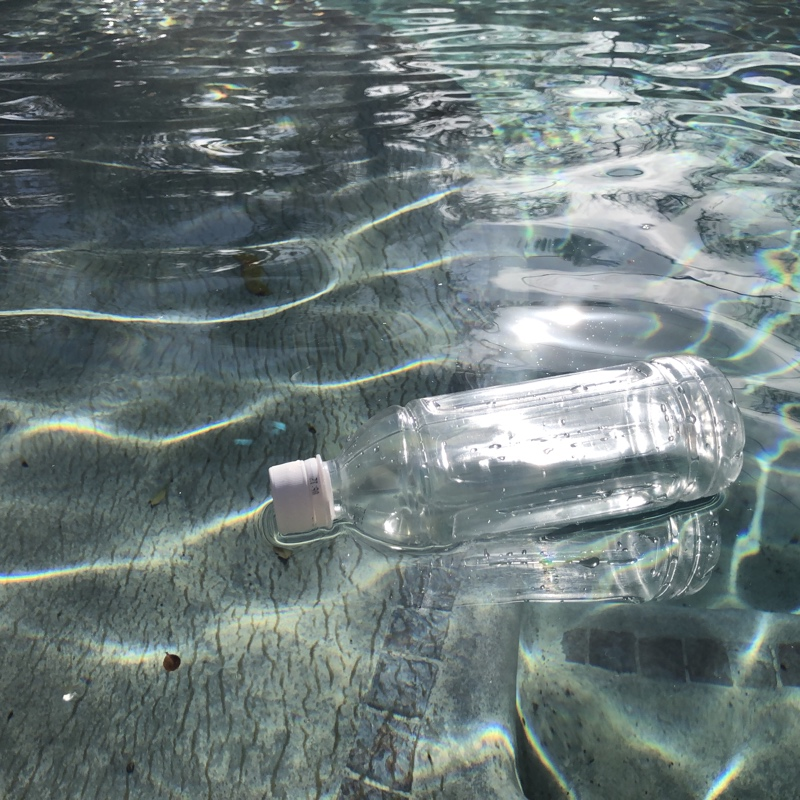Plastic Bottle: (265, 351, 747, 548)
